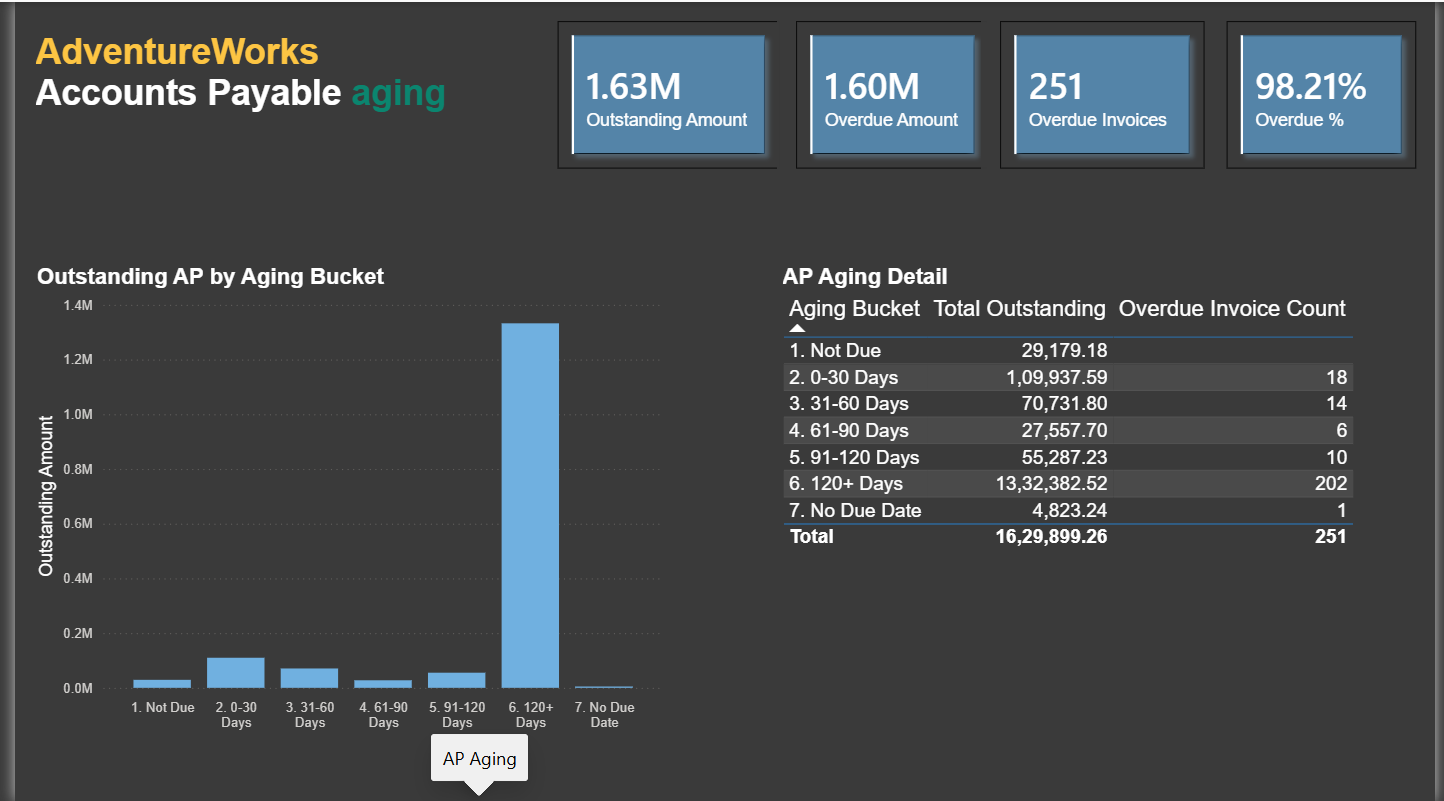

Layout of this report page (visuals, bound fields, positions):
{"tool":"powerbi","page":{"name":"AP Aging","canvas":[1280,720],"ordinal":2},"visuals":[{"type":"tableEx","title":"AP Aging Detail","fields":{"Values":["Fact_Invoice.Aging Bucket","Fact_Invoice.Total Outstanding","Fact_Invoice.Overdue Invoice Count"]},"box":[687.1,237.1,525.7,427.1],"z":0},{"type":"clusteredColumnChart","title":"Outstanding AP by Aging Bucket","fields":{"Category":["Fact_Invoice.Aging Bucket"],"Y":["Fact_Invoice.Total Outstanding"]},"box":[14.3,237.1,574.3,427.1],"z":1000},{"type":"cardVisual","fields":{"Data":["Fact_Invoice.Total Outstanding"]},"box":[471.4,0,234.3,167.1],"z":2000},{"type":"cardVisual","fields":{"Data":["Fact_Invoice.Overdue Amount"]},"box":[687.1,0,208.6,167.1],"z":3000},{"type":"cardVisual","fields":{"Data":["Fact_Invoice.Overdue Invoice Count"]},"box":[870,0,218.6,167.1],"z":4000},{"type":"cardVisual","fields":{"Data":["Fact_Invoice.Overdue %"]},"box":[1074.3,0,205.7,167.1],"z":5000},{"type":"textbox","box":[13.6,21.2,392.2,131.7],"z":6000}]}

Visuals, with their boxes in screenshot pixels (x1, y1, x2, y2), scaled from the page's 1280x720 canvas onto the 1444x801 screenshot:
"AP Aging Detail" tableEx: [x1=775, y1=264, x2=1368, y2=739]
"Outstanding AP by Aging Bucket" clusteredColumnChart: [x1=16, y1=264, x2=664, y2=739]
cardVisual - Fact_Invoice.Total Outstanding: [x1=532, y1=0, x2=796, y2=186]
cardVisual - Fact_Invoice.Overdue Amount: [x1=775, y1=0, x2=1010, y2=186]
cardVisual - Fact_Invoice.Overdue Invoice Count: [x1=981, y1=0, x2=1228, y2=186]
cardVisual - Fact_Invoice.Overdue %: [x1=1212, y1=0, x2=1443, y2=186]
textbox: [x1=15, y1=24, x2=458, y2=170]
